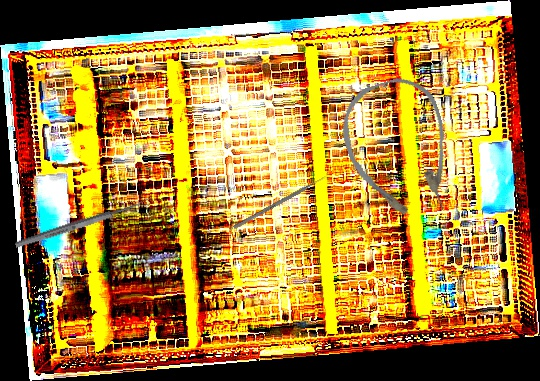Cannula: (330, 69, 469, 232)
Pusher: (232, 172, 332, 230)
Surgical Spoon: (14, 197, 151, 250)
